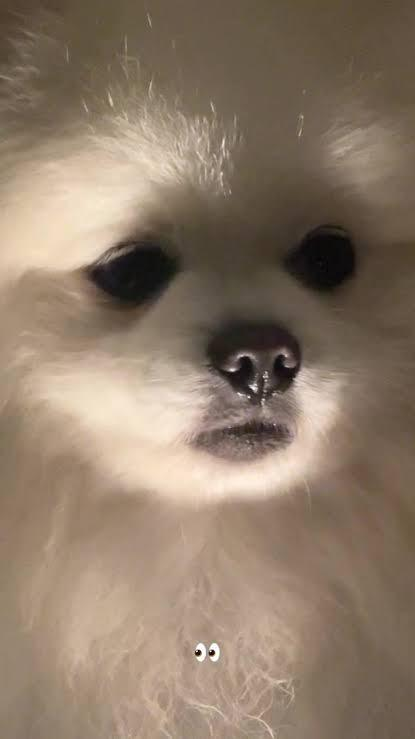adult_dog: (1, 1, 415, 737)
